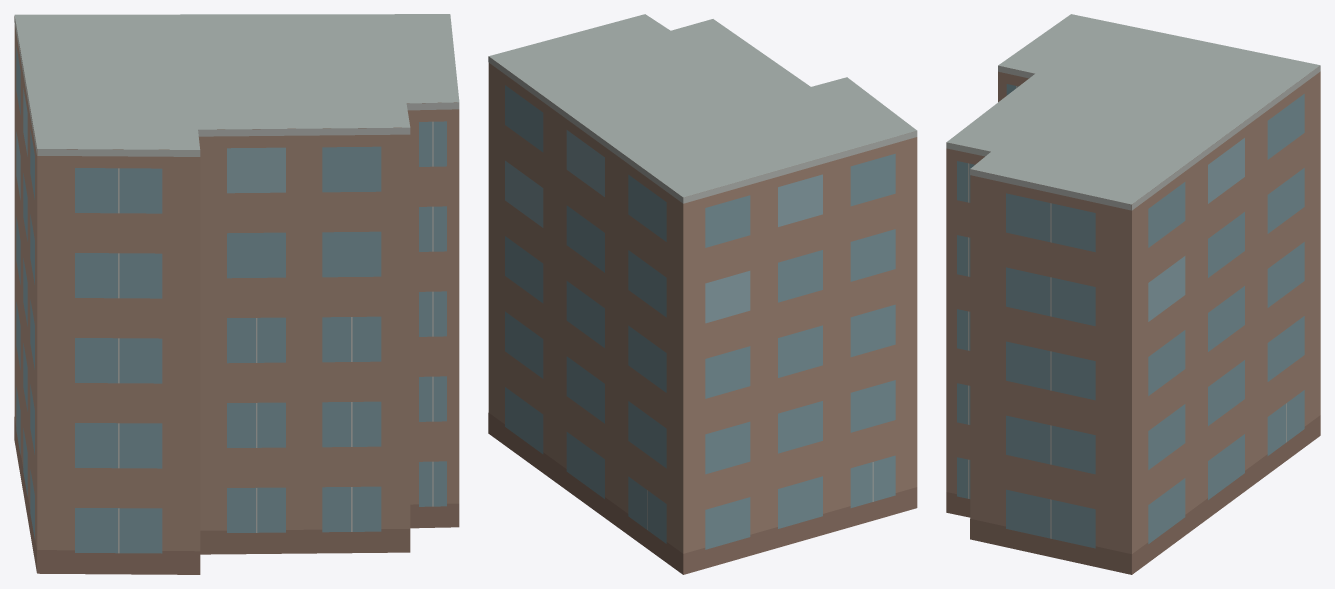
The model's file is survey-upis-32843967.glb.
3 renders of one model, left to right at view 1: azimuth 30°, elevation 25°; view 2: azimuth 150°, elevation 25°; view 3: azimuth 270°, elevation 25°, orthographic. The views are drawn at different scales.
Visible parts, largest first — view 1: survey-upis-32843967.tmp; view 2: survey-upis-32843967.tmp; view 3: survey-upis-32843967.tmp.
Part boxes in pixels (x1,y1,x2,y2): survey-upis-32843967.tmp: (14,14,459,574); survey-upis-32843967.tmp: (488,14,917,574); survey-upis-32843967.tmp: (946,14,1320,574).
Bounding box in the file's own units: 16.34 × 14.8 × 13.56.
